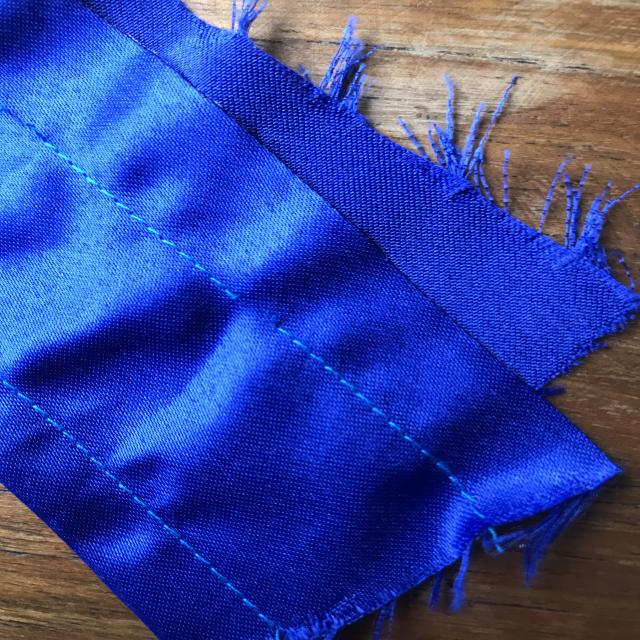broken: (188, 268, 320, 348)
